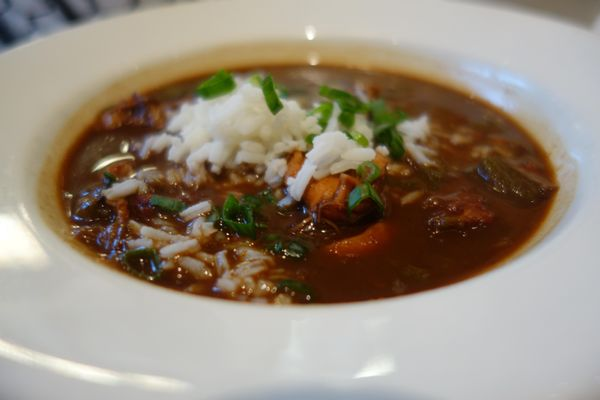curry: (312, 85, 409, 158), (220, 192, 262, 238)
sushi: (6, 16, 591, 388)
